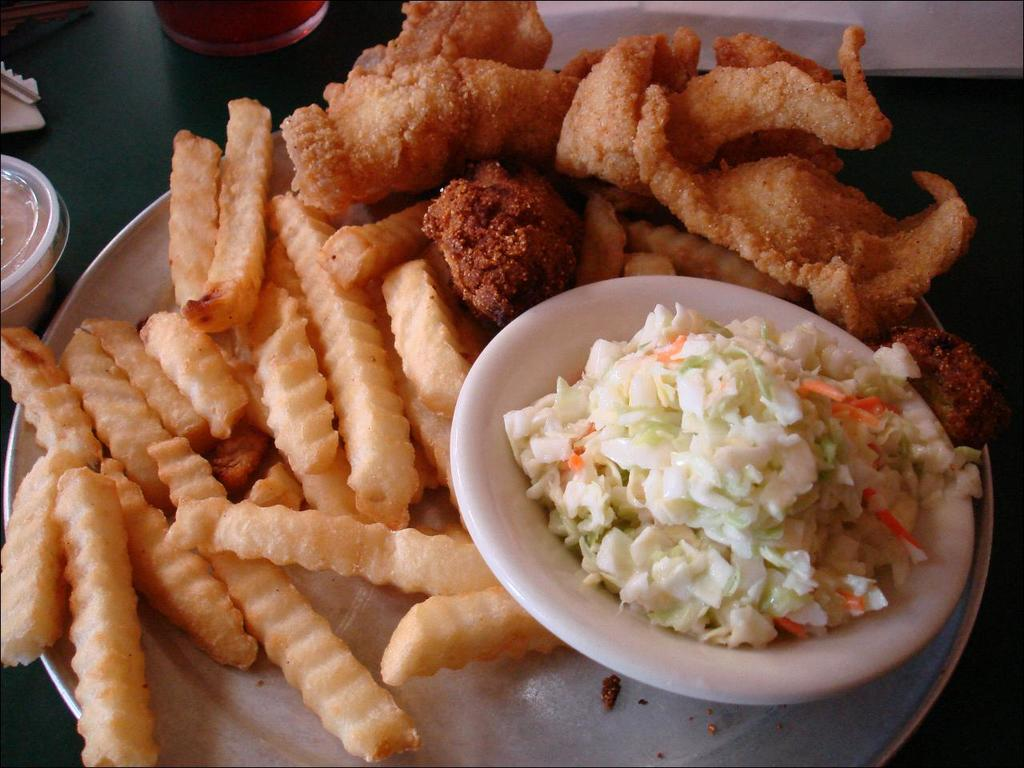French fries: (155, 433, 387, 767), (256, 181, 408, 531), (204, 492, 521, 599), (103, 447, 255, 665), (243, 277, 364, 527), (55, 457, 152, 767), (183, 92, 289, 348), (375, 251, 472, 523), (55, 339, 181, 503), (375, 591, 568, 697), (0, 445, 77, 665), (0, 319, 107, 475), (133, 299, 243, 429), (161, 117, 224, 309)
